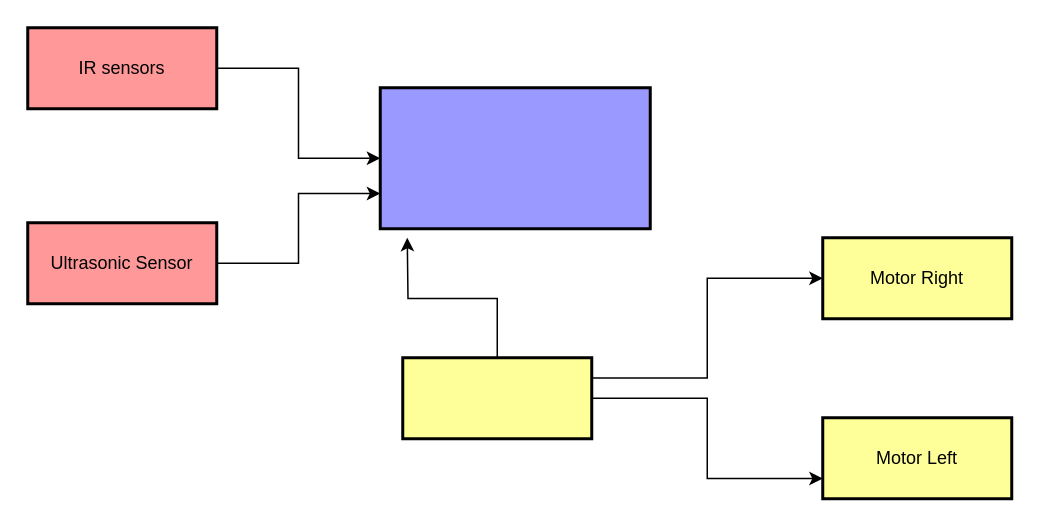
Some shapes in this 1038 by 525 pixel diagram are drawn without their labels. The shapes that lost their labels are listed below. From the top down, each one's centre as x and y in pixels, then its label:
At (x=514, y=158): "Arduino Uno".
At (x=496, y=398): "Motor Driver".
